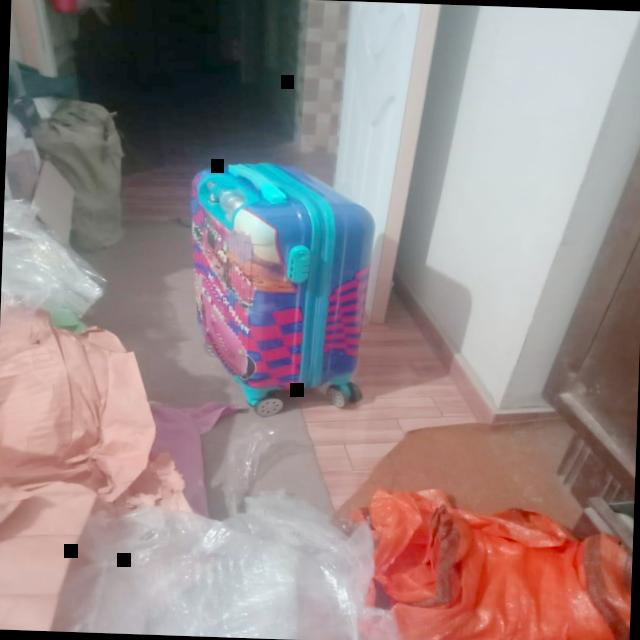luggage: (178, 154, 381, 402)
